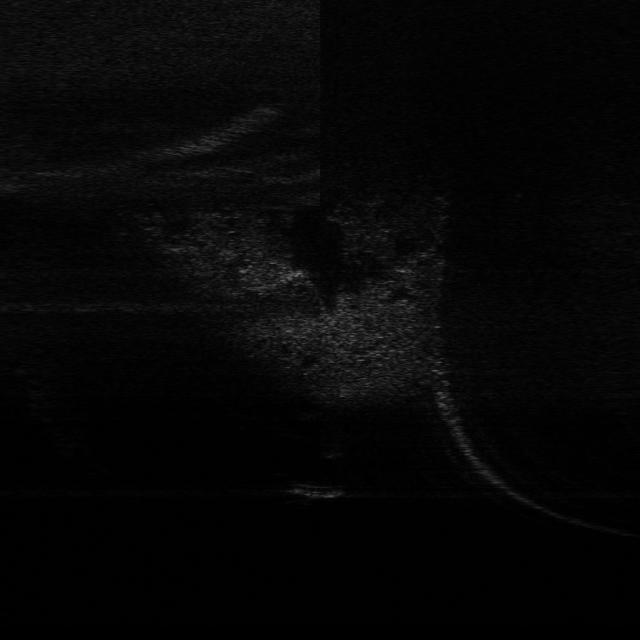cube: (282, 479, 349, 504)
